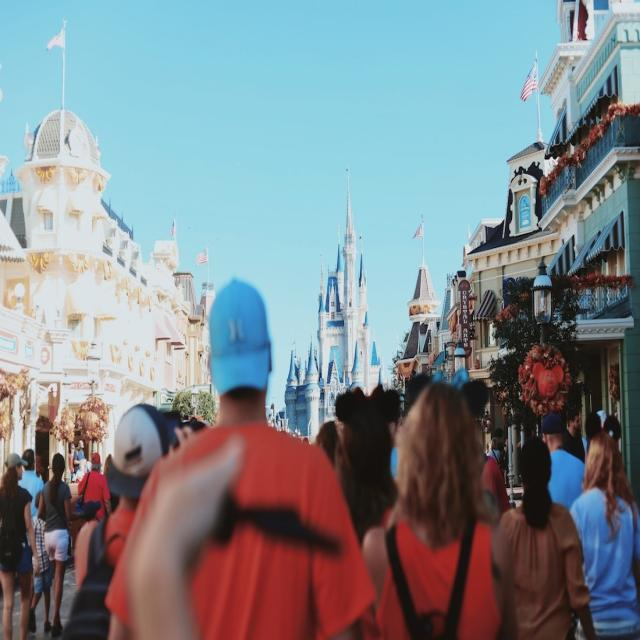Walking: (40, 450, 66, 637)
